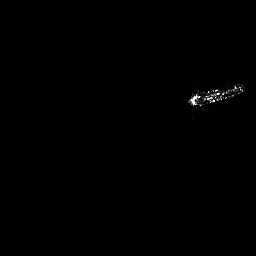ship: (185, 81, 245, 108)
